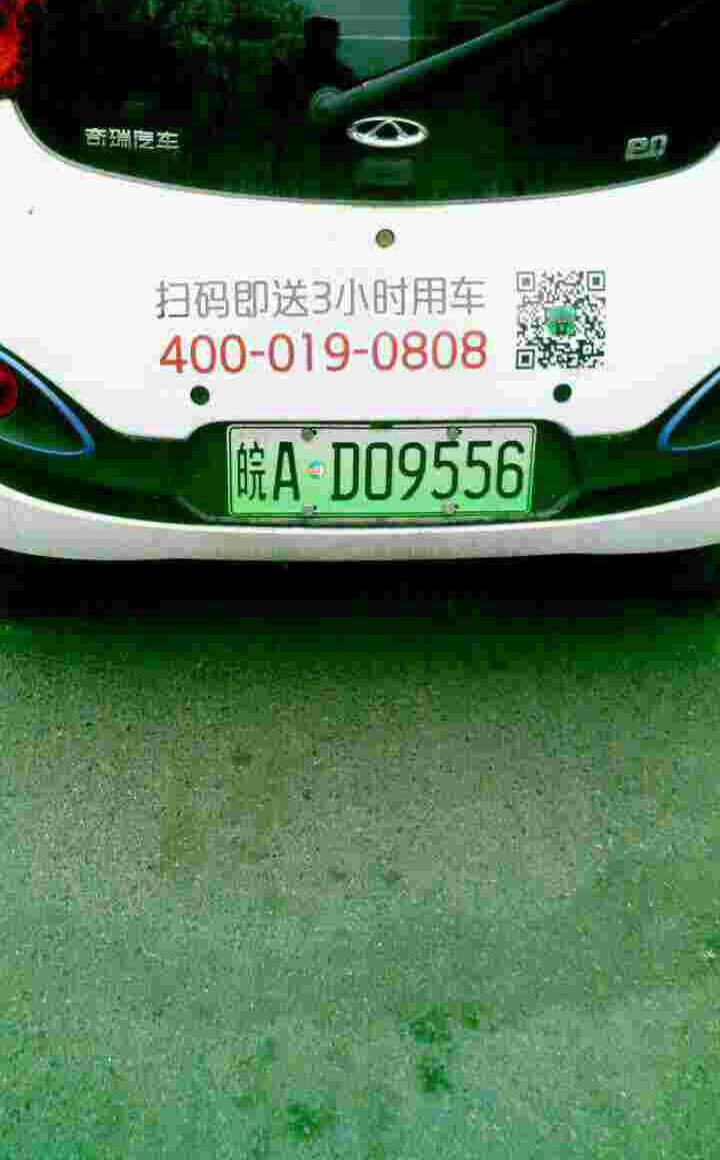car_id: (224, 425, 532, 514)
